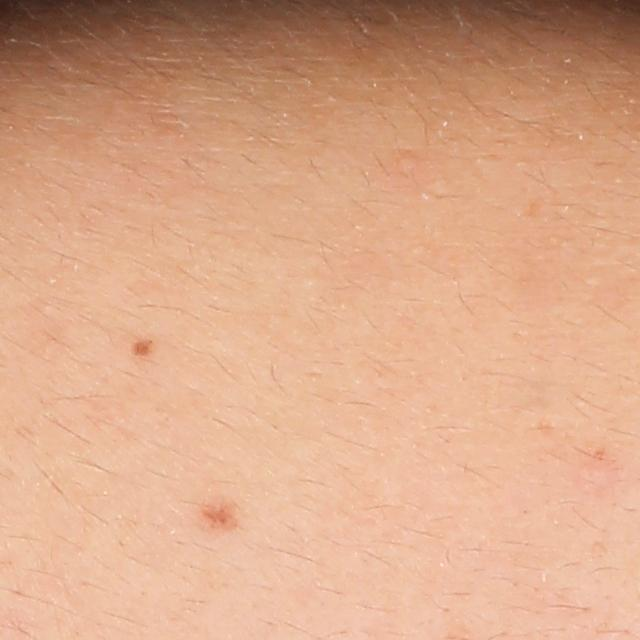nevus: (198, 490, 240, 533), (132, 330, 159, 358)
